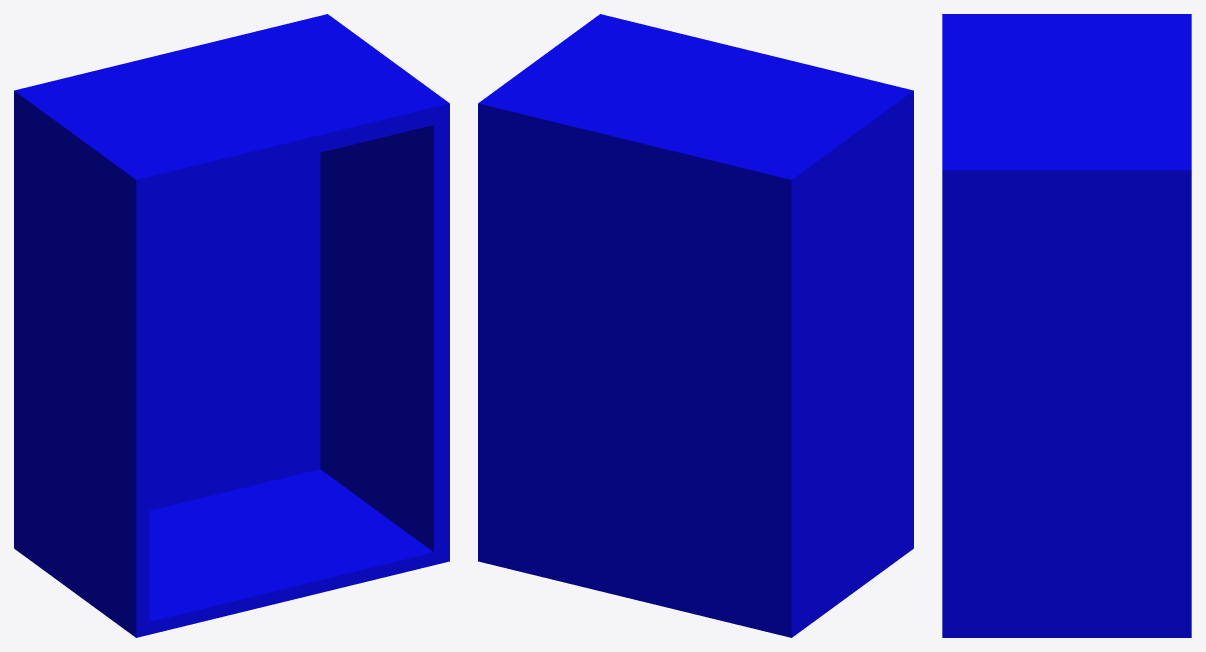
File: single_box.obj
3 renders of one model, left to right at view 1: azimuth 30°, elevation 25°; view 2: azimuth 150°, elevation 25°; view 3: azimuth 270°, elevation 25°, orthographic. The views are drawn at different scales.
Visible parts, largest first — view 1: g0; view 2: g0; view 3: g0.
Boxes of the visible parts, bbox=[...] form: g0: bbox=[14, 14, 449, 637]; g0: bbox=[478, 14, 913, 637]; g0: bbox=[942, 14, 1191, 637].
Bounding box in the file's own units: 0.4258 × 0.5941 × 0.2872.
